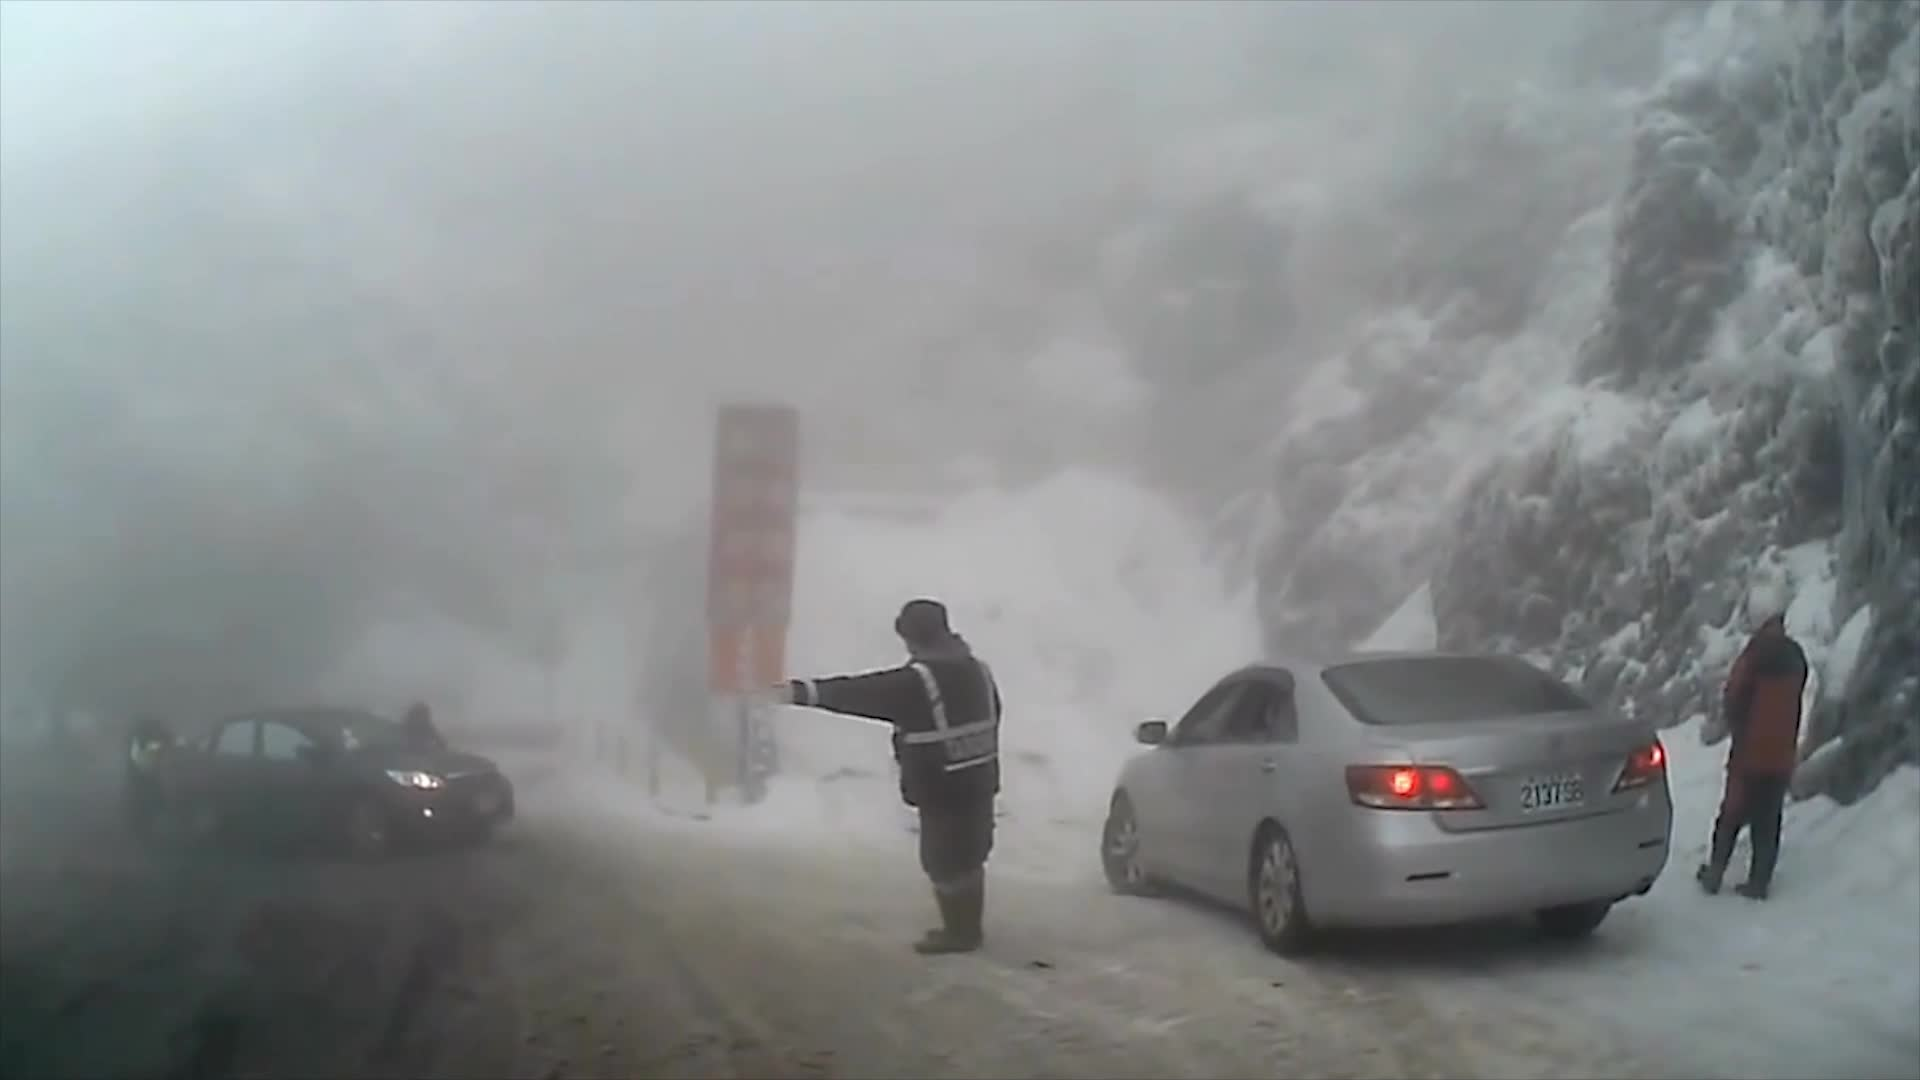pedestrian: (781, 595, 1009, 949), (1706, 586, 1812, 903)
vehicle: (1100, 652, 1676, 960), (162, 701, 521, 862)
